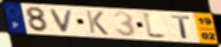3: (113, 10, 137, 38)
8: (25, 6, 51, 33)
K: (84, 9, 111, 36)
L: (141, 10, 172, 41)
T: (170, 14, 193, 40)
V: (48, 8, 75, 33)
